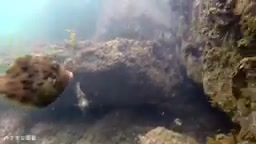kawahagi: (1, 51, 77, 111)
